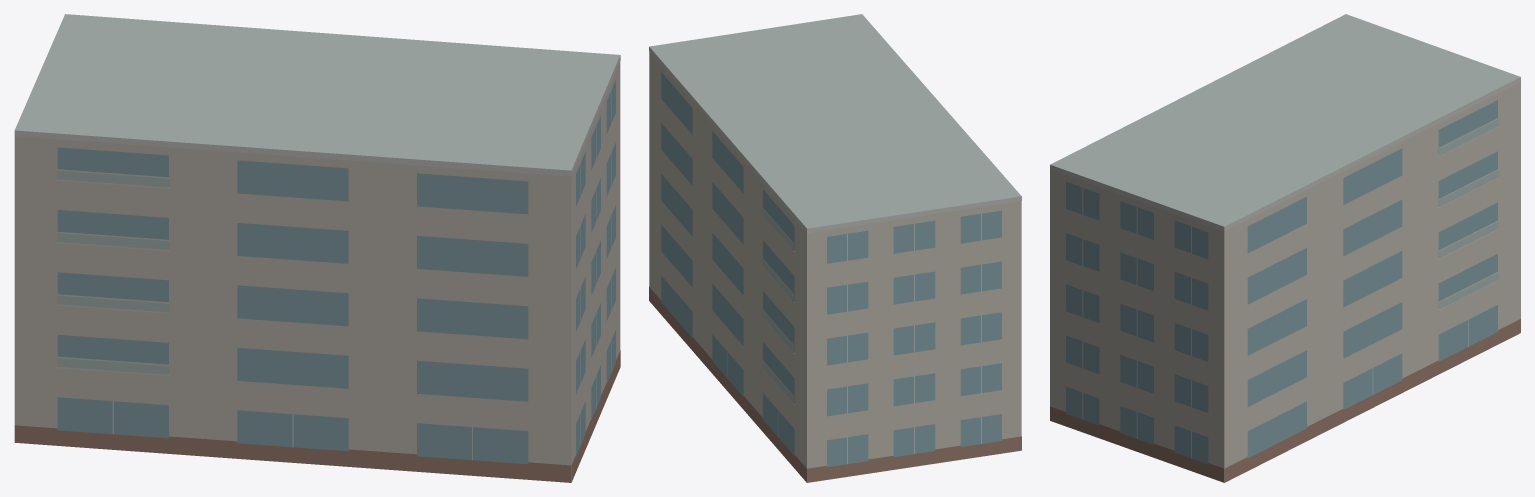
Rendered from survey-upis-32655718.glb.
3 renders of one model, left to right at view 1: azimuth 30°, elevation 25°; view 2: azimuth 150°, elevation 25°; view 3: azimuth 270°, elevation 25°, orthographic. The views are drawn at different scales.
Visible parts, largest first — view 1: survey-upis-32655718.tmp; view 2: survey-upis-32655718.tmp; view 3: survey-upis-32655718.tmp.
Part boxes in pixels (x1,y1,x2,y2): survey-upis-32655718.tmp: (14, 14, 620, 482); survey-upis-32655718.tmp: (649, 14, 1021, 482); survey-upis-32655718.tmp: (1050, 14, 1520, 482).
Size of the model in its own units: 23.35 by 13.1 by 21.83.
